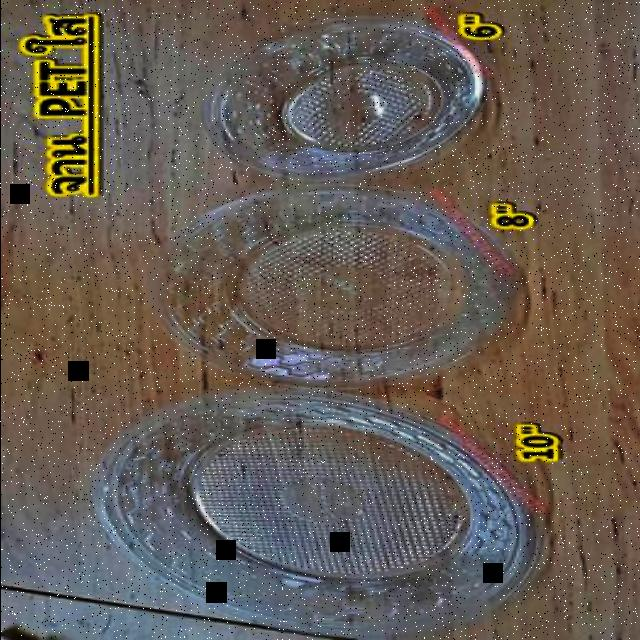plastic_box: (94, 388, 542, 636), (156, 182, 522, 392), (202, 14, 488, 182)
